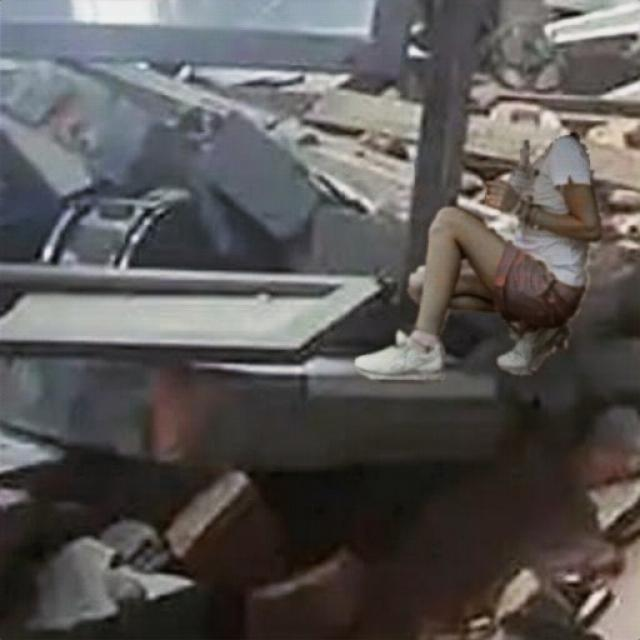Person in Rubble: (355, 132, 600, 380)
